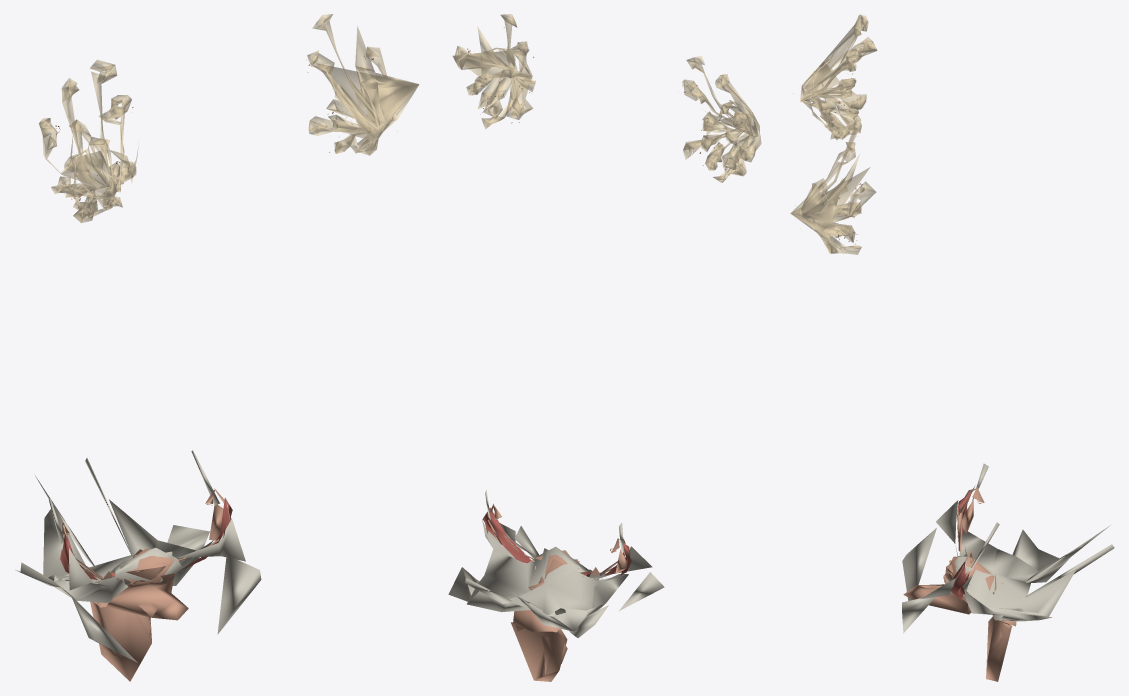
Rendered from adult_female.reproductive.LOD4.glb.
3 views of the same model, side by side, from view 1: azimuth 30°, elevation 25°; view 2: azimuth 150°, elevation 25°; view 3: azimuth 270°, elevation 25° (orthographic). The views are drawn at different scales.
Parts seen in each view (by area): view 1: ADULT.FEMALE.REPRODUCTIVE.MAMMARY_FAT.L, ADULT.FEMALE.REPRODUCTIVE.BROAD_LIGAMENT, ADULT.FEMALE.REPRODUCTIVE.MAMMARY_FAT.R, ADULT.FEMALE.REPRODUCTIVE.VAGINA, ADULT.FEMALE.REPRODUCTIVE.UTEROVESICAL_POUCH, ADULT.FEMALE.REPRODUCTIVE.ROUND_LIGAMENT_OF_UTERUS.L, ADULT.FEMALE.REPRODUCTIVE.ROUND_LIGAMENT_OF_UTERUS.R, ADULT.FEMALE.REPRODUCTIVE.CARDINAL_LIGAMENT_OF_UTERUS.L, ADULT.FEMALE.REPRODUCTIVE.FUNDUS_OF_UTERUS; view 2: ADULT.FEMALE.REPRODUCTIVE.BROAD_LIGAMENT, ADULT.FEMALE.REPRODUCTIVE.MAMMARY_FAT.L, ADULT.FEMALE.REPRODUCTIVE.MAMMARY_FAT.R, ADULT.FEMALE.REPRODUCTIVE.VAGINA, ADULT.FEMALE.REPRODUCTIVE.MESOSALPINX.L, ADULT.FEMALE.REPRODUCTIVE.CERVICOVAGINAL_JUNCTION, ADULT.FEMALE.REPRODUCTIVE.ROUND_LIGAMENT_OF_UTERUS.R, ADULT.FEMALE.REPRODUCTIVE.CARDINAL_LIGAMENT_OF_UTERUS.L; view 3: ADULT.FEMALE.REPRODUCTIVE.BROAD_LIGAMENT, ADULT.FEMALE.REPRODUCTIVE.MAMMARY_FAT.R, ADULT.FEMALE.REPRODUCTIVE.MAMMARY_FAT.L, ADULT.FEMALE.REPRODUCTIVE.VAGINA, ADULT.FEMALE.REPRODUCTIVE.ROUND_LIGAMENT_OF_UTERUS.R, ADULT.FEMALE.REPRODUCTIVE.UTEROVESICAL_POUCH, ADULT.FEMALE.REPRODUCTIVE.CARDINAL_LIGAMENT_OF_UTERUS.R, ADULT.FEMALE.REPRODUCTIVE.ROUND_LIGAMENT_OF_UTERUS.L.
Boxes of the visible parts, <box> form: ADULT.FEMALE.REPRODUCTIVE.MAMMARY_FAT.L: <box>307,14,419,155</box>; ADULT.FEMALE.REPRODUCTIVE.BROAD_LIGAMENT: <box>43,499,245,603</box>; ADULT.FEMALE.REPRODUCTIVE.MAMMARY_FAT.R: <box>39,59,139,223</box>; ADULT.FEMALE.REPRODUCTIVE.VAGINA: <box>90,601,151,681</box>; ADULT.FEMALE.REPRODUCTIVE.UTEROVESICAL_POUCH: <box>106,573,188,620</box>; ADULT.FEMALE.REPRODUCTIVE.ROUND_LIGAMENT_OF_UTERUS.L: <box>217,555,261,634</box>; ADULT.FEMALE.REPRODUCTIVE.ROUND_LIGAMENT_OF_UTERUS.R: <box>71,595,137,662</box>; ADULT.FEMALE.REPRODUCTIVE.CARDINAL_LIGAMENT_OF_UTERUS.L: <box>167,525,209,550</box>; ADULT.FEMALE.REPRODUCTIVE.FUNDUS_OF_UTERUS: <box>119,555,173,587</box>; ADULT.FEMALE.REPRODUCTIVE.BROAD_LIGAMENT: <box>467,519,652,631</box>; ADULT.FEMALE.REPRODUCTIVE.MAMMARY_FAT.L: <box>452,14,535,129</box>; ADULT.FEMALE.REPRODUCTIVE.MAMMARY_FAT.R: <box>682,55,761,182</box>; ADULT.FEMALE.REPRODUCTIVE.VAGINA: <box>511,622,567,681</box>; ADULT.FEMALE.REPRODUCTIVE.MESOSALPINX.L: <box>482,507,531,563</box>; ADULT.FEMALE.REPRODUCTIVE.CERVICOVAGINAL_JUNCTION: <box>513,610,561,631</box>; ADULT.FEMALE.REPRODUCTIVE.ROUND_LIGAMENT_OF_UTERUS.R: <box>618,572,664,611</box>; ADULT.FEMALE.REPRODUCTIVE.CARDINAL_LIGAMENT_OF_UTERUS.L: <box>448,567,515,601</box>; ADULT.FEMALE.REPRODUCTIVE.BROAD_LIGAMENT: <box>920,500,1083,616</box>; ADULT.FEMALE.REPRODUCTIVE.MAMMARY_FAT.R: <box>800,14,877,139</box>; ADULT.FEMALE.REPRODUCTIVE.MAMMARY_FAT.L: <box>790,118,876,254</box>; ADULT.FEMALE.REPRODUCTIVE.VAGINA: <box>986,616,1012,681</box>; ADULT.FEMALE.REPRODUCTIVE.ROUND_LIGAMENT_OF_UTERUS.R: <box>902,528,936,600</box>; ADULT.FEMALE.REPRODUCTIVE.UTEROVESICAL_POUCH: <box>903,574,971,614</box>; ADULT.FEMALE.REPRODUCTIVE.CARDINAL_LIGAMENT_OF_UTERUS.R: <box>1012,529,1059,571</box>; ADULT.FEMALE.REPRODUCTIVE.ROUND_LIGAMENT_OF_UTERUS.L: <box>902,597,935,633</box>.
Bounding box in the file's own units: 0.2805 × 0.5187 × 0.2459.
